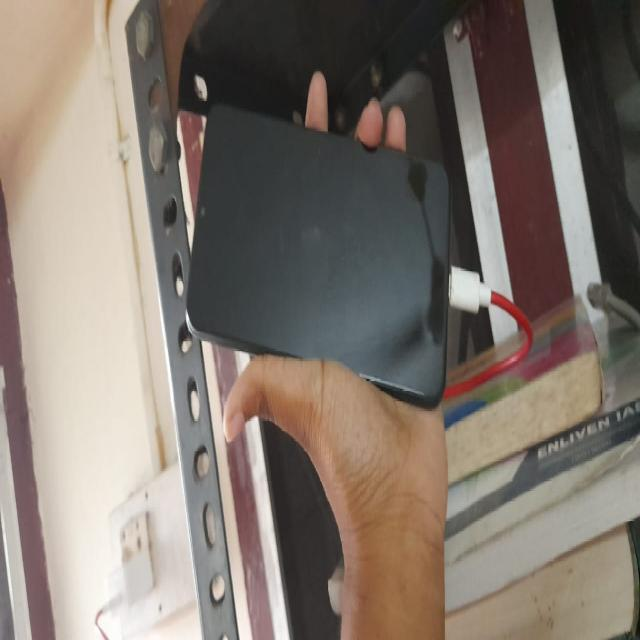Mobile - Recyclable: (182, 98, 455, 424)
